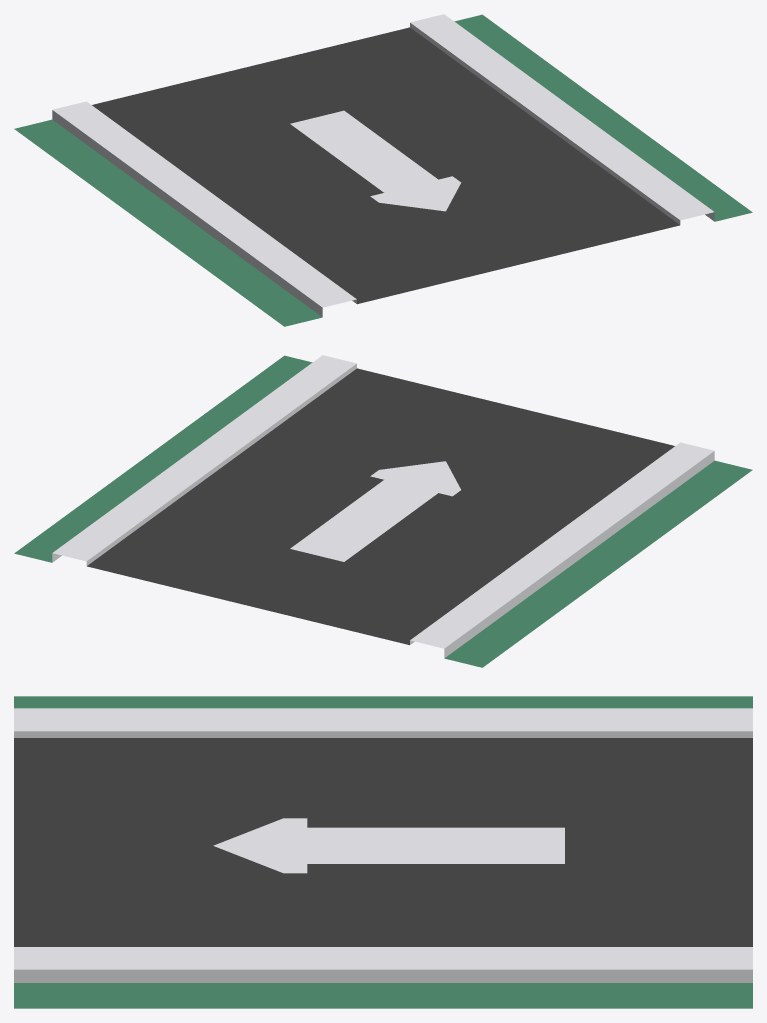
File: roadStraightArrow.obj
3 views of the same model, one above another, from view 1: azimuth 30°, elevation 25°; view 2: azimuth 150°, elevation 25°; view 3: azimuth 270°, elevation 25° (orthographic). The views are drawn at different scales.
Parts seen in each view (by area): view 1: roadStraightArrow; view 2: roadStraightArrow; view 3: roadStraightArrow.
Boxes of the visible parts, x1,y1,x2,y2 form: roadStraightArrow: [14, 14, 752, 326]; roadStraightArrow: [14, 355, 752, 667]; roadStraightArrow: [14, 696, 752, 1008].
Bounding box in the file's own units: 1 × 0.02 × 1.
